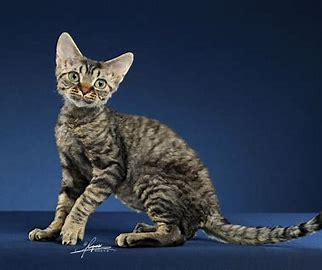cat: (25, 31, 322, 249)
